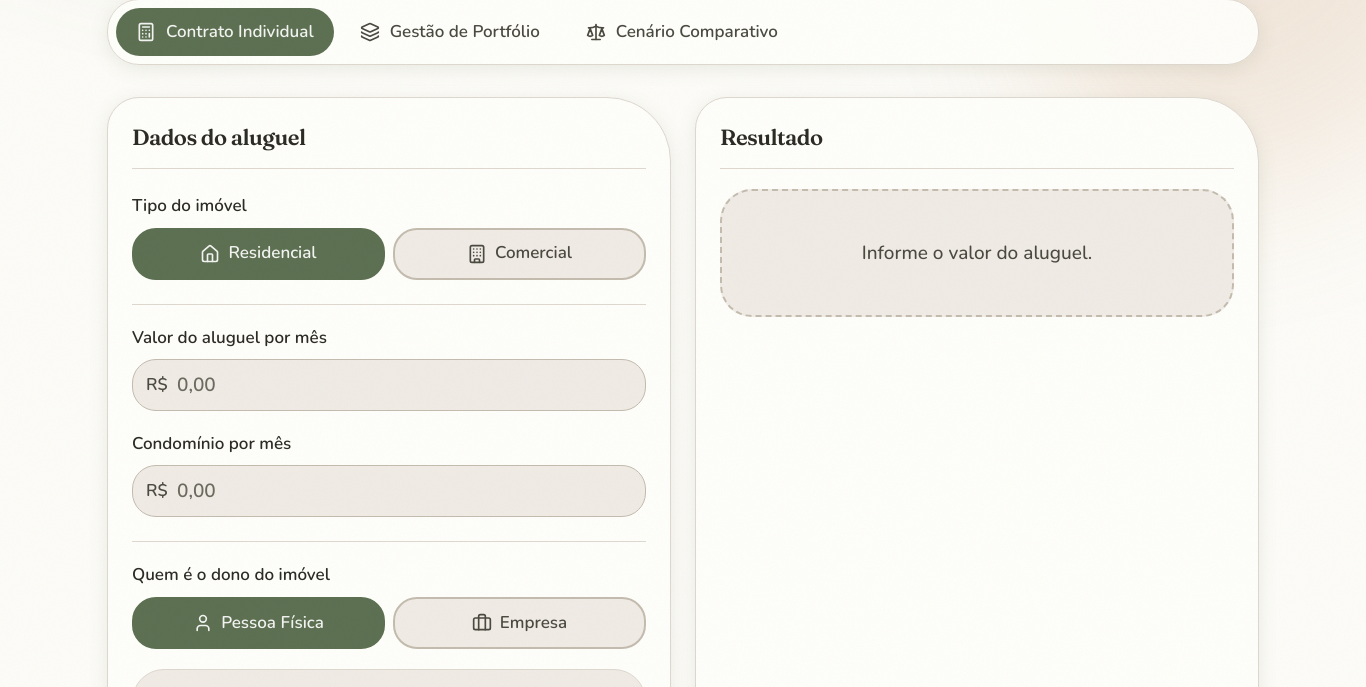
Scenario: Interface pública (locador assistido) › sinaliza erro de validação em aluguel negativo
(page scrolled)
Type "-2000" into the field labelled "Valor do aluguel por mês" at {"x": 389, "y": 385}, box [132,359,646,411]
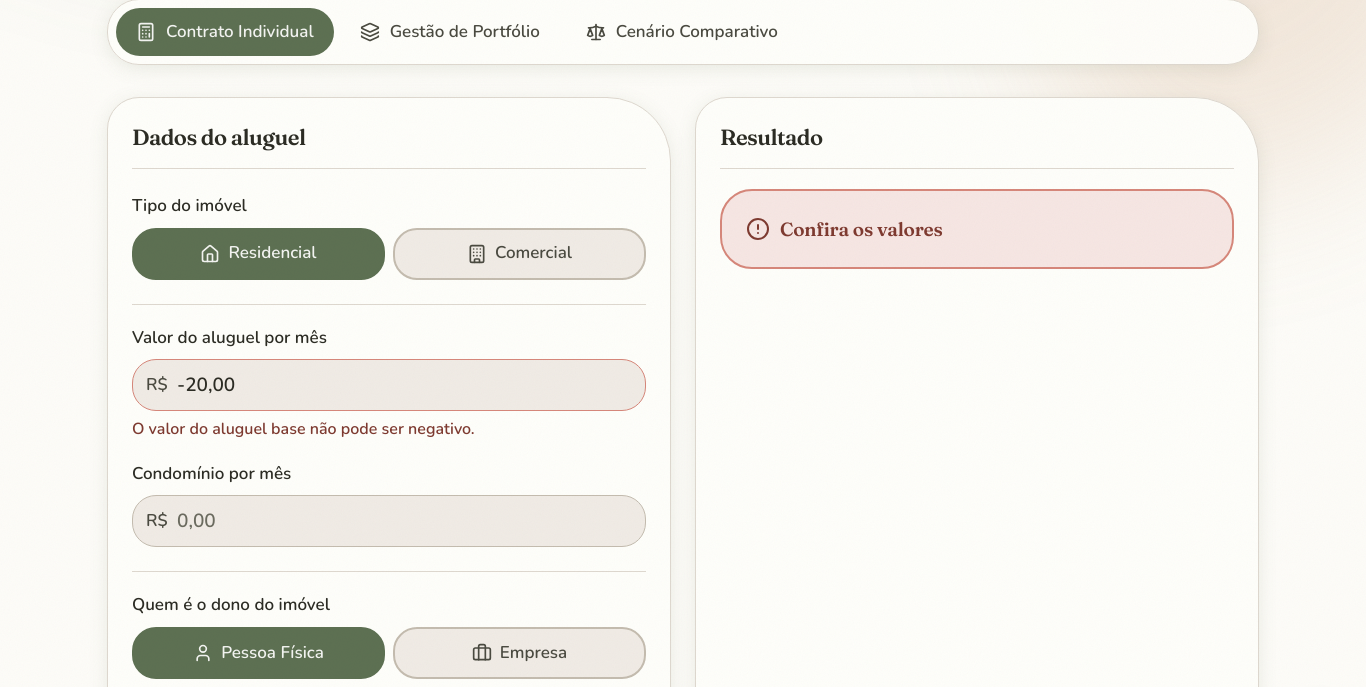
Check: the text "O valor do aluguel base não pode ser negativo." is shown, box [132,418,475,440]
Check: the heading "Confira os valores" is shown, box [746,217,943,241]
